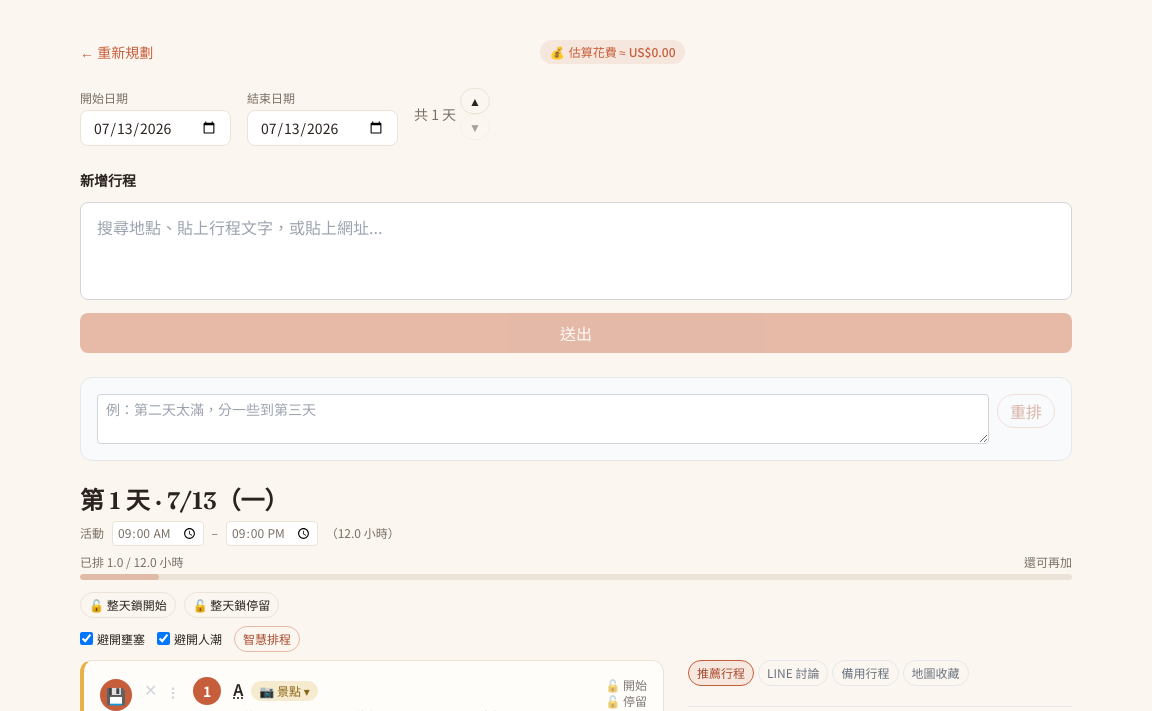
Test case: filters archived places out of recommendations loaded after mount
Click the button with test id "side-panel-tab-reserve" at (866, 673), box [832,660,898,686]
(page scrolled)
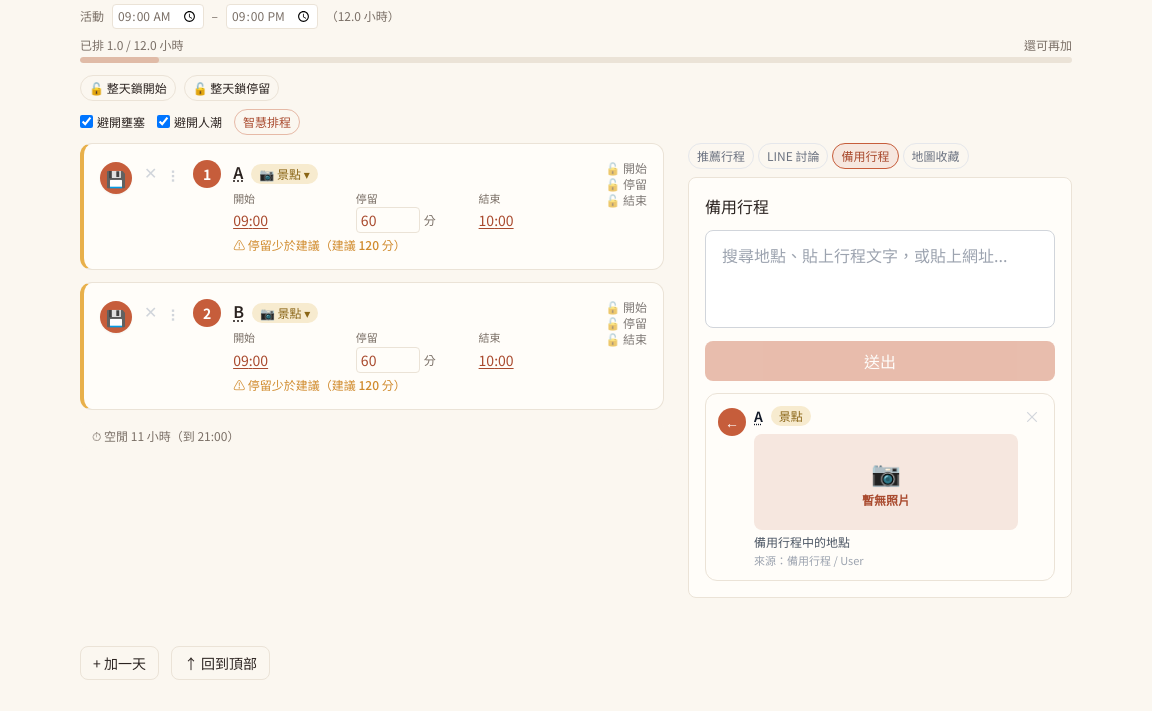
Now the element with test id "rec-A" is shown, box [705,393,1055,581]
